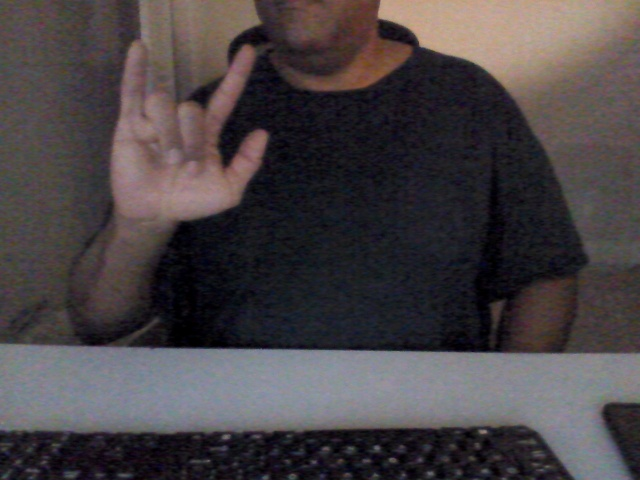i_love_you: (105, 35, 274, 224)
